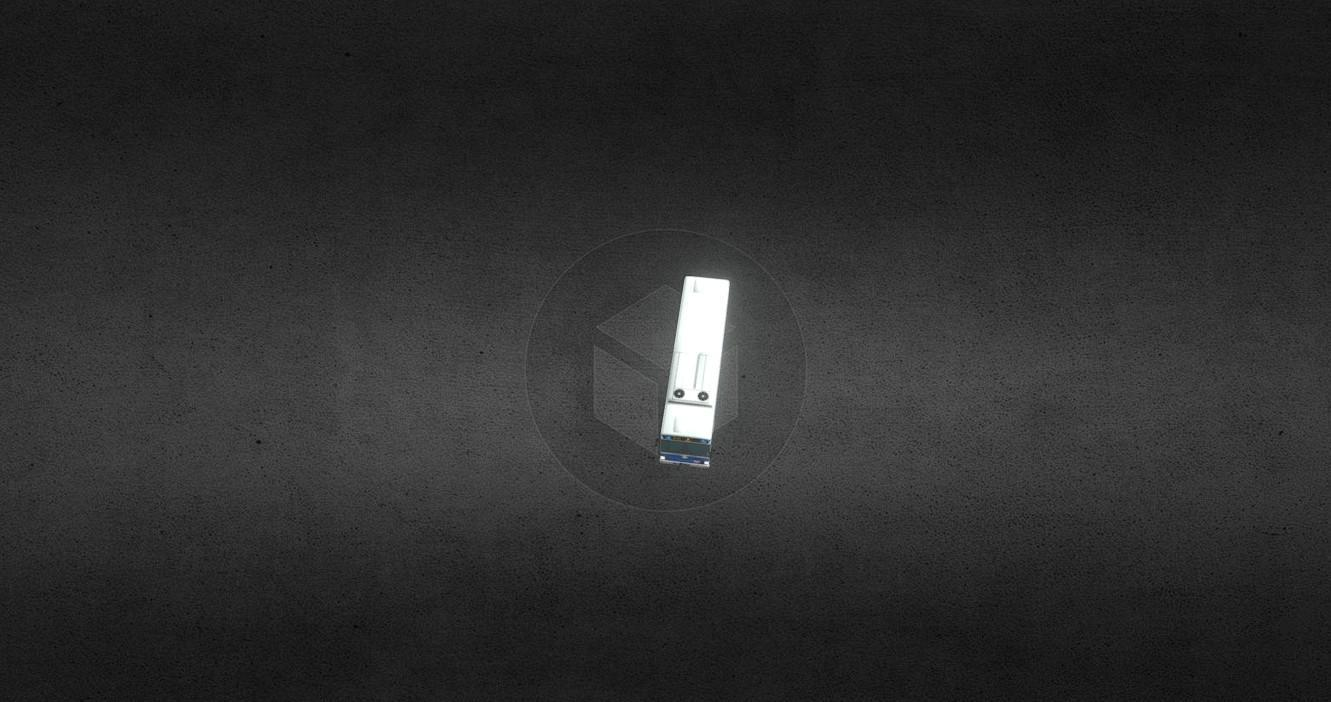Bus: (656, 274, 730, 468)
